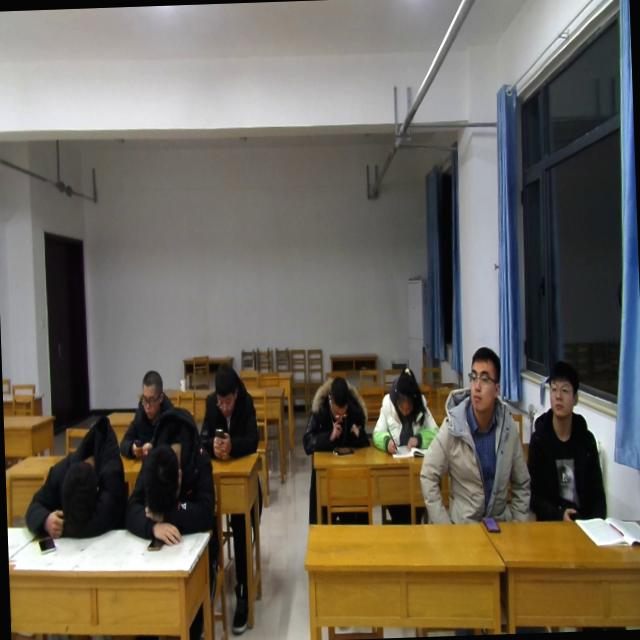bow: (120, 412, 220, 550), (21, 415, 134, 535)
down: (542, 354, 586, 422), (389, 363, 420, 419), (209, 360, 238, 419), (138, 364, 164, 422), (322, 372, 352, 420)
lookup: (465, 342, 504, 417)
sit: (415, 346, 532, 524), (526, 362, 604, 520), (196, 356, 262, 464), (118, 366, 188, 460), (298, 366, 372, 454), (371, 370, 444, 452)
